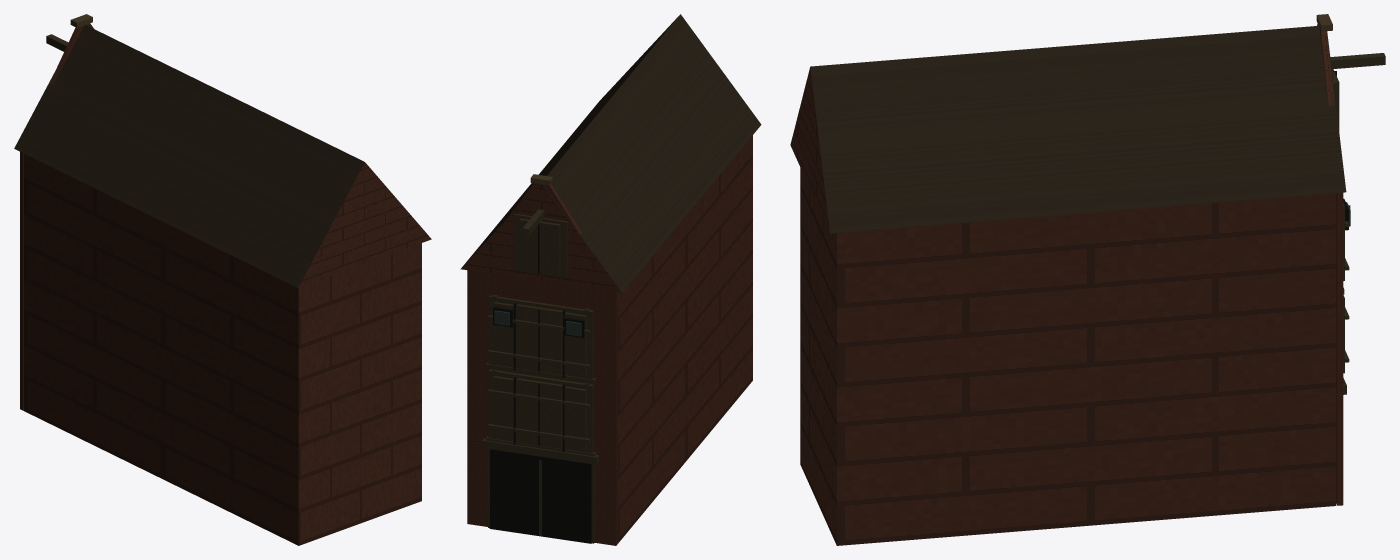
The picture shows the model from 3 angles, left to right: view 1: azimuth 30°, elevation 25°; view 2: azimuth 150°, elevation 25°; view 3: azimuth 270°, elevation 25°; orthographic projection. The views are drawn at different scales.
Parts seen in each view (by area): view 1: pakhuis-houttuin46-0, pakhuis-houttuin46-1; view 2: pakhuis-houttuin46-0, pakhuis-houttuin46-1, pakhuis-houttuin46-2, pakhuis-houttuin46-3, pakhuis-houttuin46-4; view 3: pakhuis-houttuin46-0, pakhuis-houttuin46-1, pakhuis-houttuin46-2.
Part boxes in pixels (x1,y1,x2,y2): pakhuis-houttuin46-0: (20,23,431,545); pakhuis-houttuin46-1: (14,24,364,287); pakhuis-houttuin46-0: (460,135,752,545); pakhuis-houttuin46-1: (462,14,761,292); pakhuis-houttuin46-2: (482,209,598,543); pakhuis-houttuin46-3: (490,223,591,543); pakhuis-houttuin46-4: (494,310,581,336); pakhuis-houttuin46-0: (790,23,1343,545); pakhuis-houttuin46-1: (810,25,1346,233); pakhuis-houttuin46-2: (1330,53,1385,394).
Size of the model in its own units: 9.07 by 14.48 by 17.56.
Materials: 6 (6 with a texture image).
